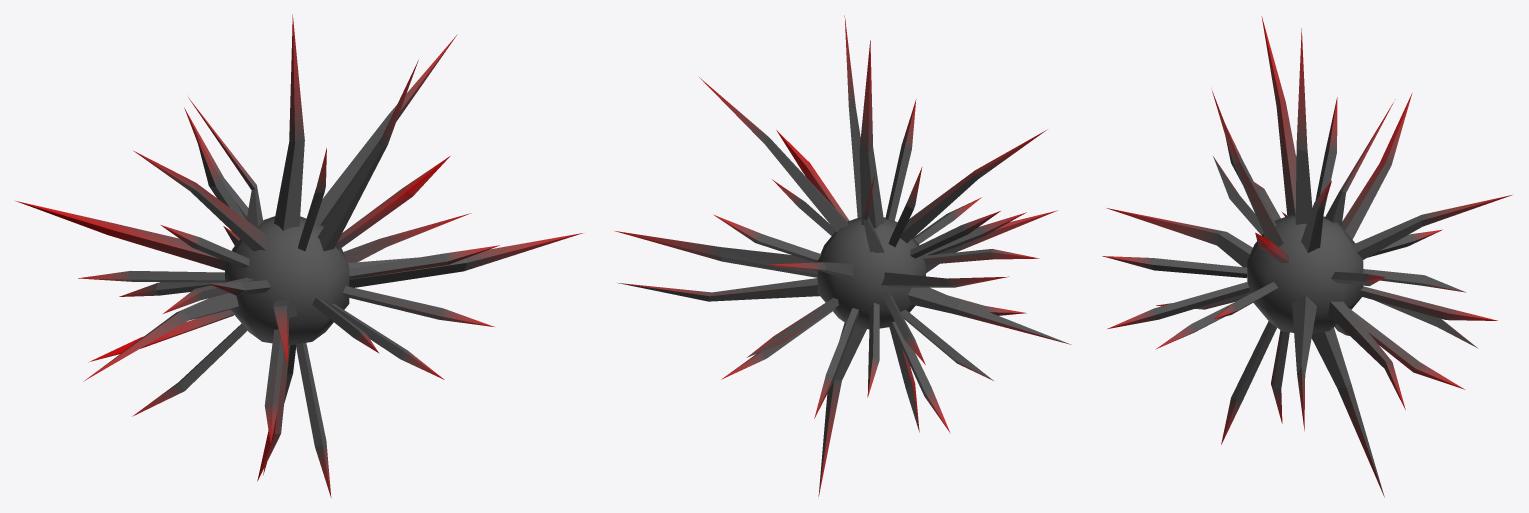
Rendered from SpikesBall1.fbx.
The picture shows the model from 3 angles, left to right: view 1: azimuth 30°, elevation 25°; view 2: azimuth 150°, elevation 25°; view 3: azimuth 270°, elevation 25°; orthographic projection. The views are drawn at different scales.
Visible parts, largest first — view 1: polySurface351; view 2: polySurface351; view 3: polySurface351.
Part boxes in pixels (x1,y1,x2,y2): polySurface351: (16,14,582,497); polySurface351: (615,15,1071,496); polySurface351: (1102,16,1511,497).
Size of the model in its own units: 1492 by 1383 by 1113.
